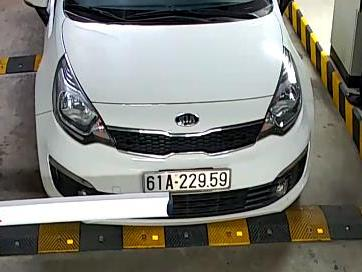number: (142, 169, 232, 194)
